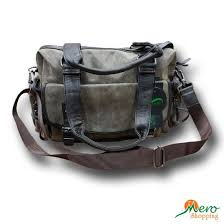bag: (18, 40, 208, 176)
